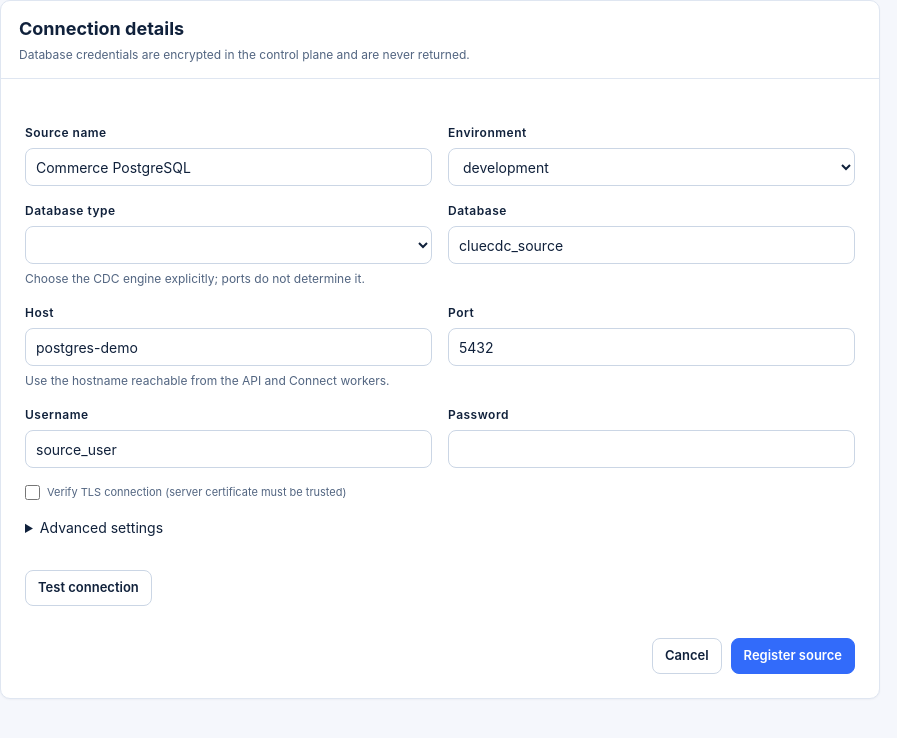
it: source connection forms › validates a new source before testing
Click the button "Test connection".
click(88, 588)  # box [25, 570, 152, 606]
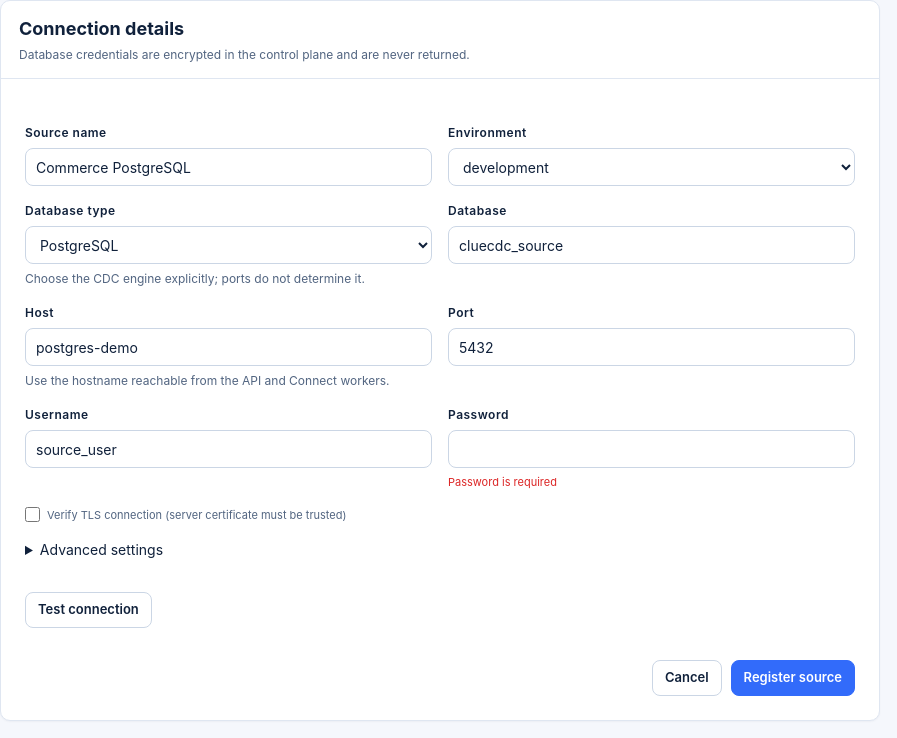
expect the text "Password is required" is shown: met, box [448, 475, 557, 489]
